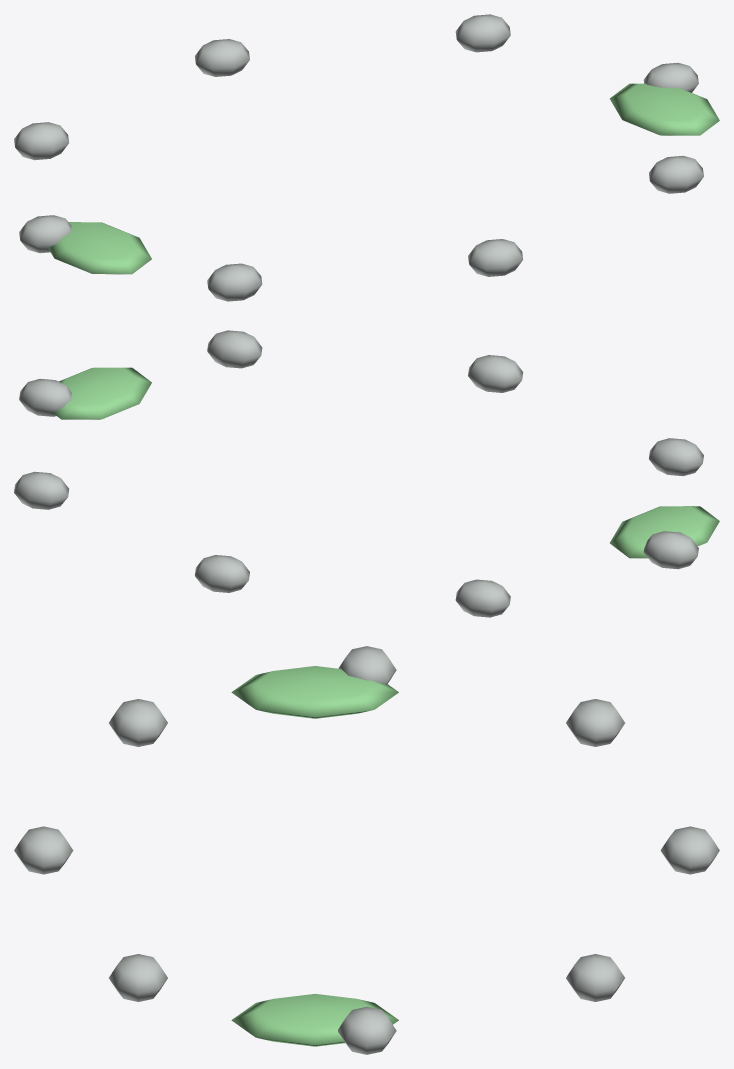
The model's file is foundation_summer.glb.
3 views of the same model, one above another, from view 1: azimuth 30°, elevation 25°; view 2: azimuth 150°, elevation 25°; view 3: azimuth 270°, elevation 25° (orthographic). The views are drawn at different scales.
Size of the model in its own units: 3.58 by 0.16 by 2.73.
